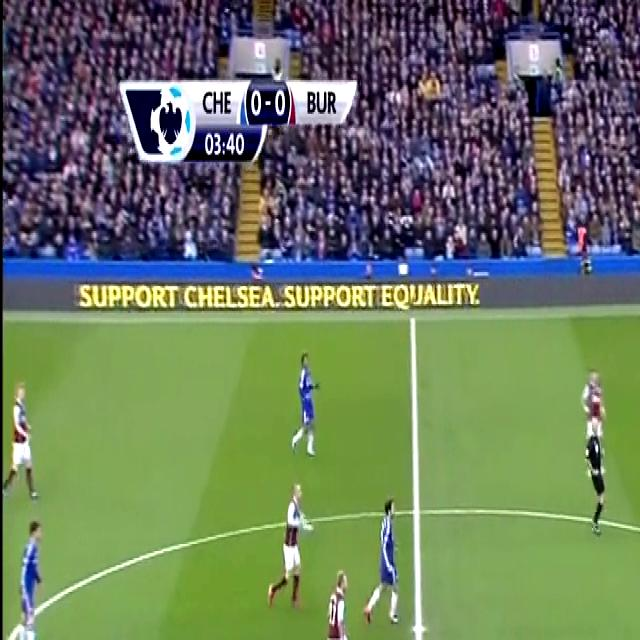referee: (585, 411, 611, 545)
soccer-player: (264, 474, 316, 616), (361, 480, 406, 630), (4, 366, 44, 512), (302, 563, 360, 640), (292, 340, 324, 468), (16, 512, 47, 640), (578, 360, 604, 460)
